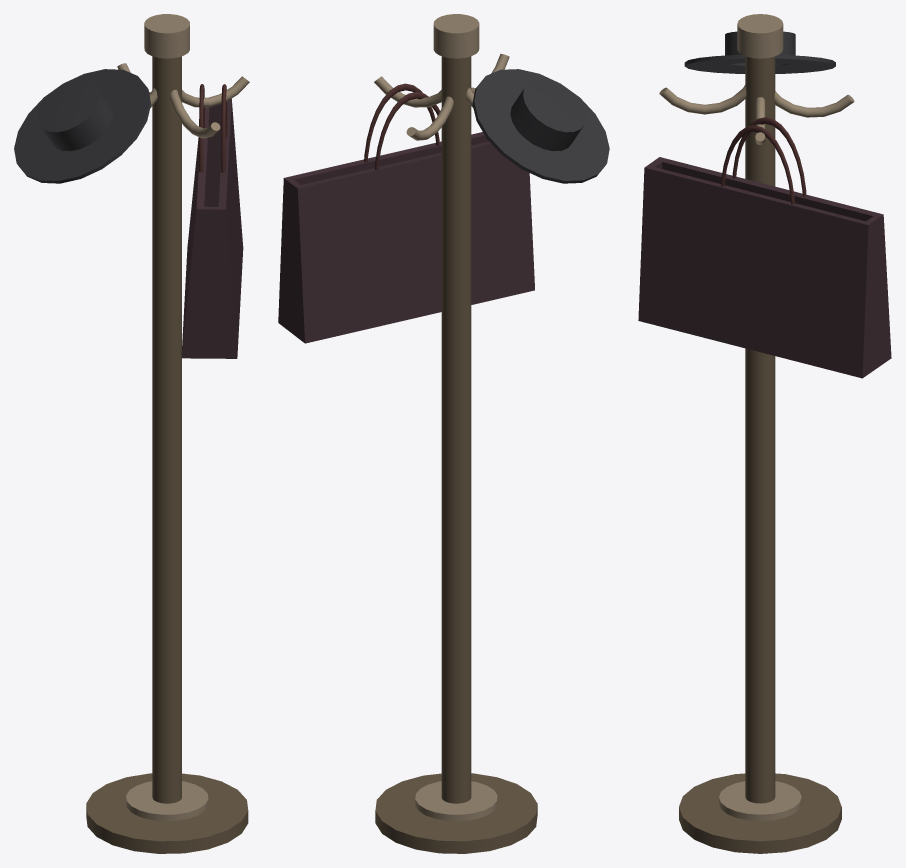
Rendered from colored coat hanger.fbx.
3 views of the same model, side by side, from view 1: azimuth 30°, elevation 25°; view 2: azimuth 150°, elevation 25°; view 3: azimuth 270°, elevation 25° (orthographic).
Parts seen in each view (by area): view 1: pCylinder1, pCube1, pCylinder9, pCylinder2, pCylinder3, pCylinder8, pCylinder12, pCylinder7, pCylinder6; view 2: pCube1, pCylinder1, pCylinder9, pCylinder2, pCylinder3, pCylinder8, pCylinder12, pCylinder7, pCylinder6; view 3: pCube1, pCylinder1, pCylinder2, pCylinder9, pCylinder3, pCylinder8, pCylinder7, pCylinder12.
Boxes of the visible parts, x1,y1,x2,y2 form: pCylinder1: [152, 56, 181, 803]; pCube1: [181, 98, 243, 358]; pCylinder9: [14, 69, 150, 183]; pCylinder2: [86, 773, 248, 853]; pCylinder3: [126, 781, 208, 821]; pCylinder8: [144, 14, 189, 58]; pCylinder12: [199, 84, 227, 172]; pCylinder7: [117, 63, 220, 138]; pCylinder6: [149, 76, 249, 107]; pCube1: [278, 132, 534, 343]; pCylinder1: [441, 56, 471, 803]; pCylinder9: [472, 69, 609, 183]; pCylinder2: [375, 773, 537, 853]; pCylinder3: [415, 781, 497, 821]; pCylinder8: [433, 14, 479, 58]; pCylinder12: [364, 83, 439, 170]; pCylinder7: [406, 54, 509, 140]; pCylinder6: [374, 76, 474, 108]; pCube1: [638, 157, 891, 378]; pCylinder1: [745, 56, 775, 803]; pCylinder2: [679, 773, 841, 853]; pCylinder9: [684, 31, 835, 73]; pCylinder3: [719, 781, 801, 820]; pCylinder8: [737, 14, 783, 58]; pCylinder7: [659, 84, 854, 117]; pCylinder12: [721, 117, 806, 204].
Size of the model in its own units: 0.6243 by 1.77 by 0.5092.
